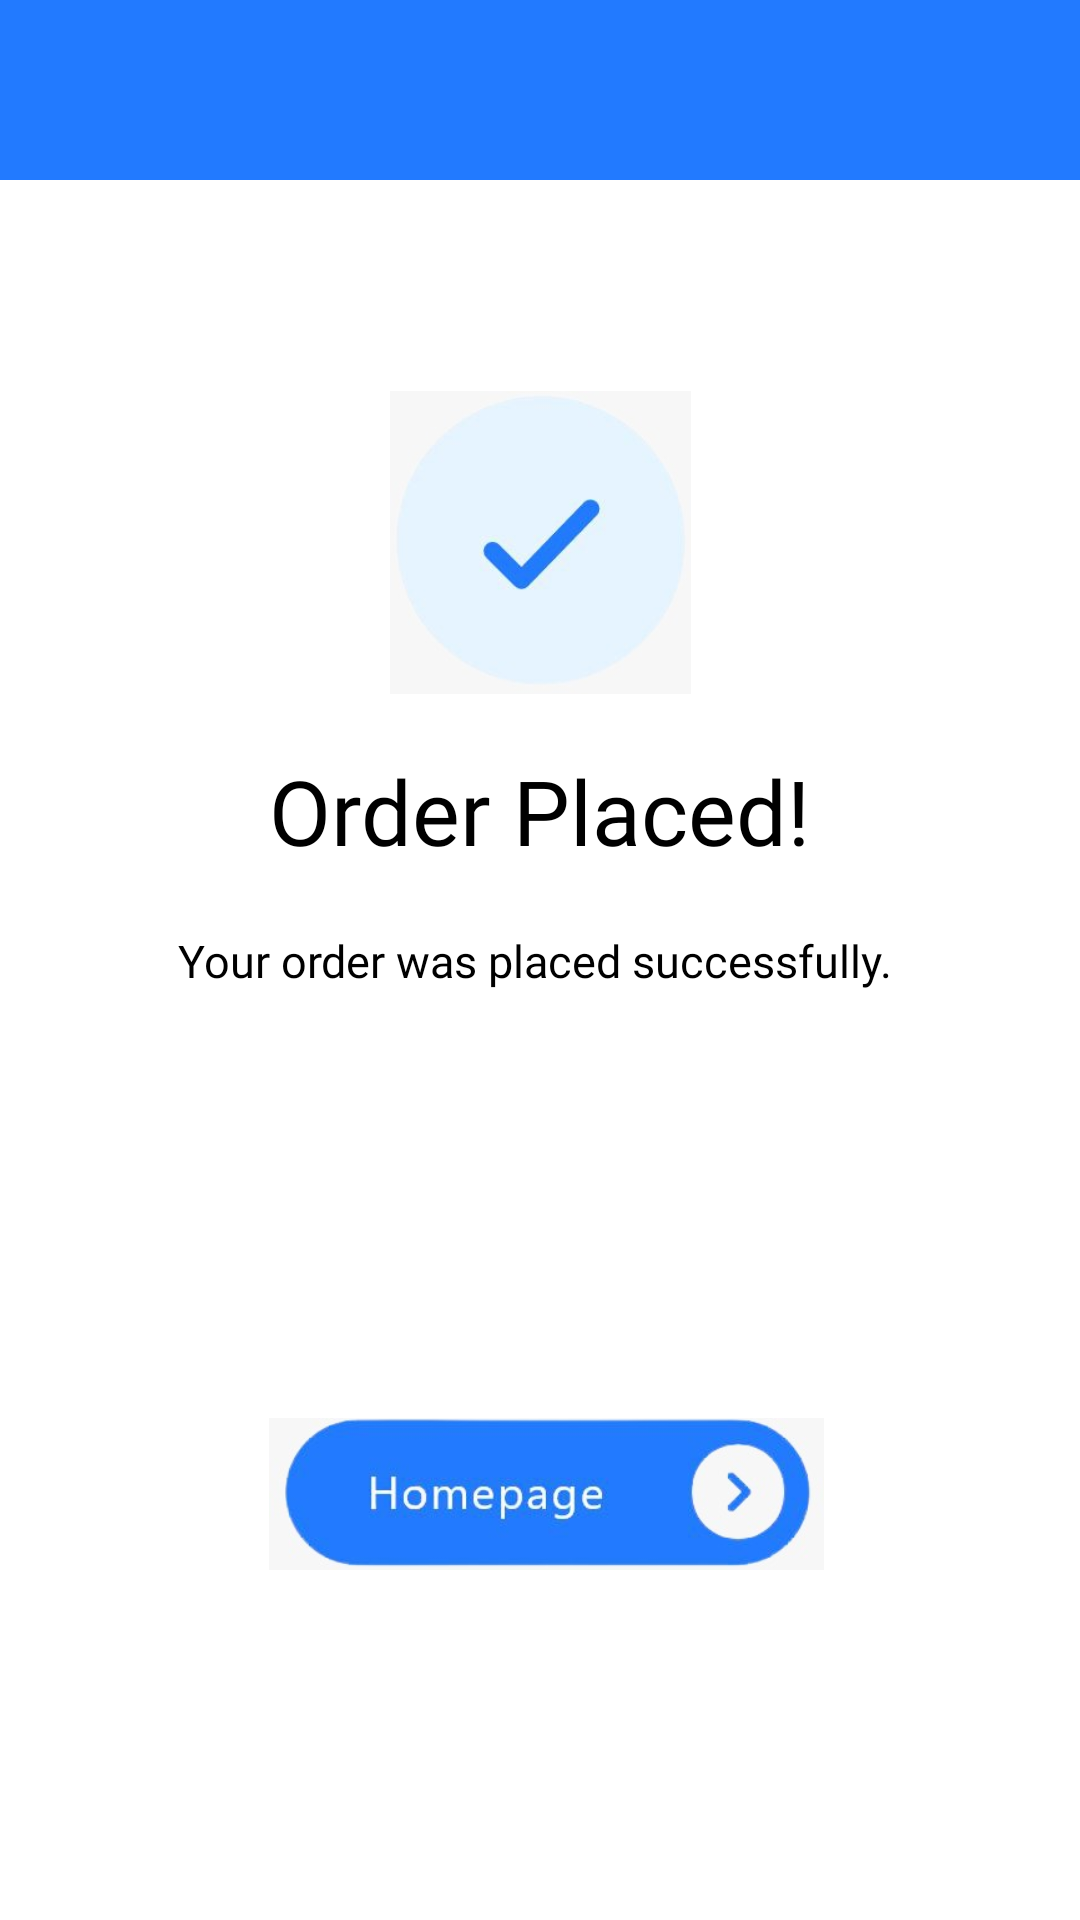

Screen size 1080 x 1920. Icon name, then its box in pixels as box(x1, y1, x2, y2):
tick: box(400, 399, 682, 682)
